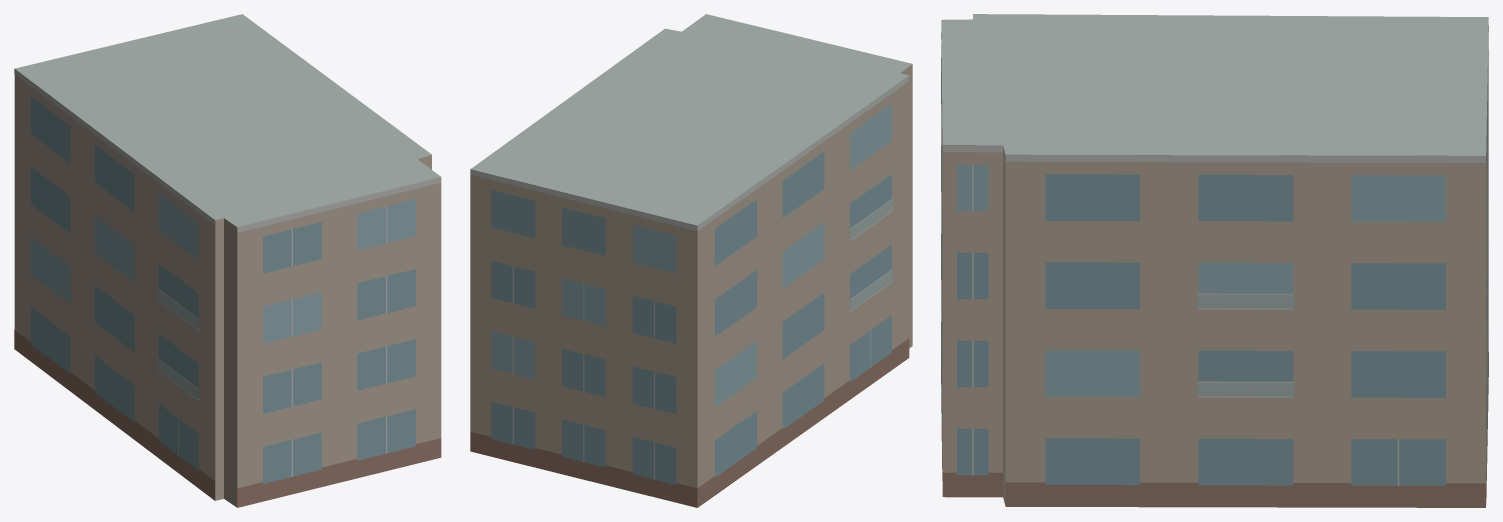
The model's file is survey-upis-32624432.glb.
The picture shows the model from 3 angles, left to right: view 1: azimuth 30°, elevation 25°; view 2: azimuth 150°, elevation 25°; view 3: azimuth 270°, elevation 25°; orthographic projection. The views are drawn at different scales.
Parts seen in each view (by area): view 1: survey-upis-32624432.tmp; view 2: survey-upis-32624432.tmp; view 3: survey-upis-32624432.tmp.
Part boxes in pixels (left/top/right/bottom): survey-upis-32624432.tmp: left=14, top=14, right=441, bottom=507; survey-upis-32624432.tmp: left=470, top=14, right=912, bottom=507; survey-upis-32624432.tmp: left=941, top=14, right=1488, bottom=507.
Bounding box in the file's own units: 10.57 × 12.2 × 17.21.
